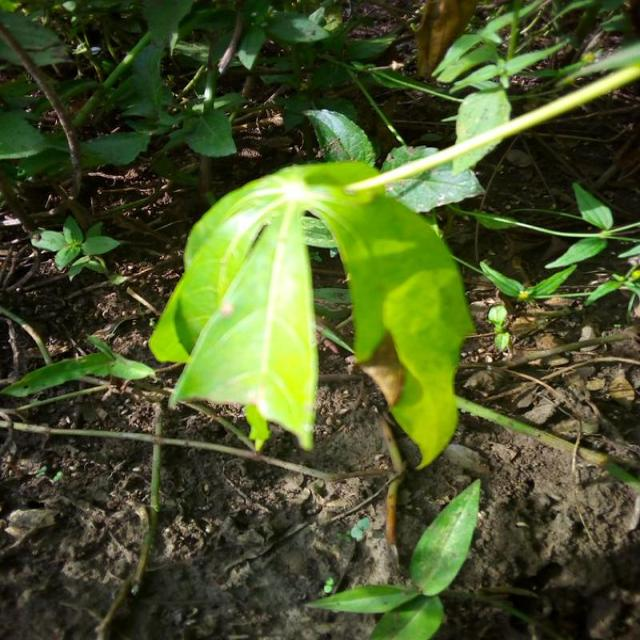cassava leaf: (148, 158, 474, 470)
